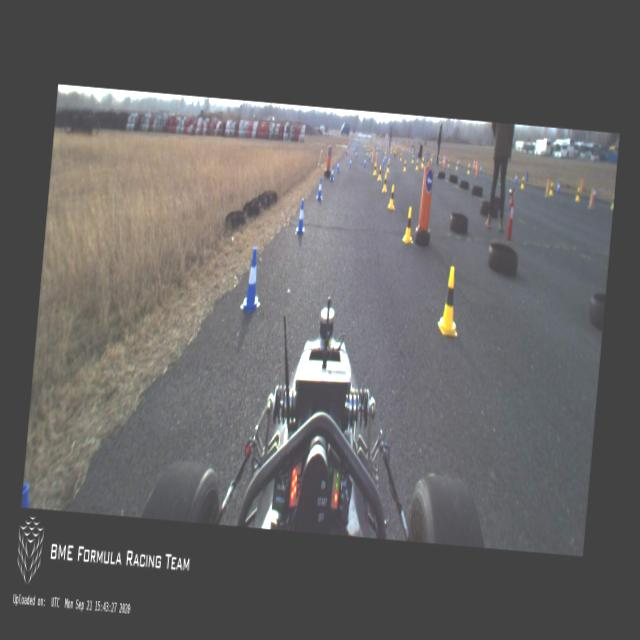blue_cone: (240, 244, 265, 314), (295, 198, 307, 236), (316, 178, 324, 200), (592, 187, 598, 206), (555, 179, 561, 195), (335, 158, 340, 172), (513, 172, 518, 185), (330, 164, 334, 180), (349, 156, 352, 168), (363, 156, 366, 168), (381, 156, 384, 167), (457, 157, 460, 166), (388, 154, 390, 164), (480, 164, 482, 172), (445, 154, 447, 162)
large_orange_cone: (472, 158, 476, 172), (474, 159, 478, 170)
unknown_cone: (587, 186, 594, 208), (544, 178, 550, 196)
yellow_cone: (436, 264, 462, 336), (401, 206, 415, 244), (387, 184, 396, 212), (574, 183, 581, 206), (382, 172, 388, 194), (548, 178, 554, 196), (372, 160, 378, 177), (520, 173, 526, 190), (377, 164, 382, 180), (385, 160, 390, 173), (420, 156, 425, 169), (414, 158, 418, 172), (466, 163, 470, 176), (403, 159, 407, 171), (455, 162, 459, 170), (446, 158, 449, 168), (411, 154, 414, 164), (399, 151, 402, 161), (438, 156, 441, 164)
